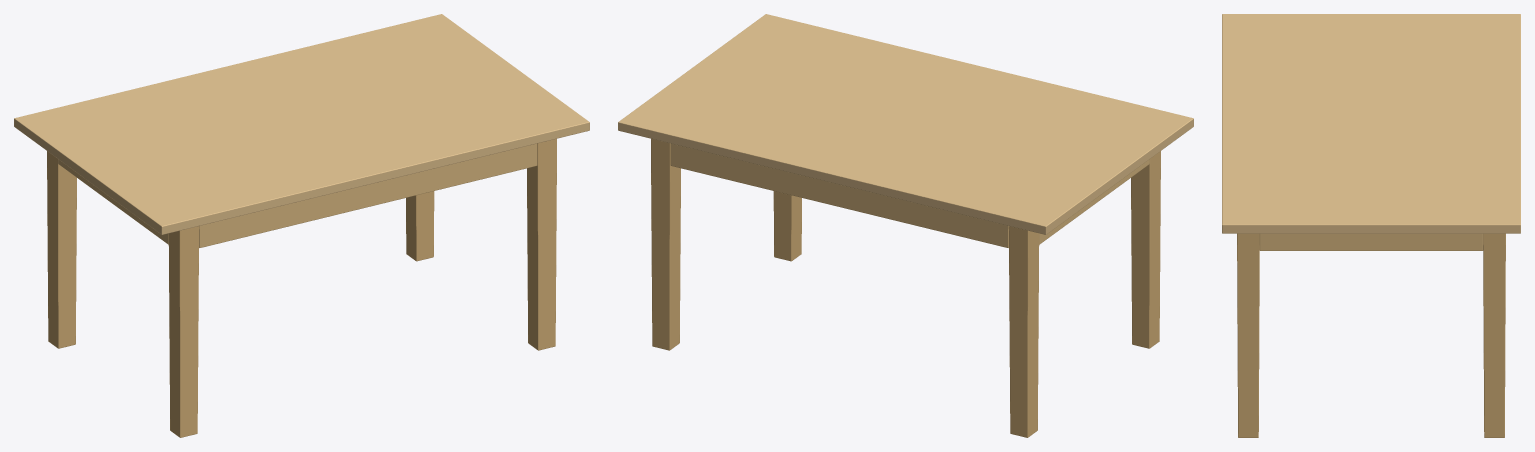
File: Pine_dining_table.glb
3 renders of one model, left to right at view 1: azimuth 30°, elevation 25°; view 2: azimuth 150°, elevation 25°; view 3: azimuth 270°, elevation 25°, orthographic.
Parts seen in each view (by area): view 1: top, apron.long_1, leg_1, leg_2, leg_3, leg_4, apron.short_1; view 2: top, apron.long_2, leg_3, leg_4, leg_1, leg_2, apron.short_1; view 3: top, leg_2, leg_4, apron.short_2.
Part boxes in pixels (x1,y1,x2,y2): top: (14, 14, 589, 234); apron.long_1: (199, 143, 537, 247); leg_1: (168, 226, 199, 437); leg_2: (527, 138, 556, 350); leg_3: (47, 151, 76, 348); leg_4: (406, 191, 434, 261); apron.short_1: (58, 159, 168, 244); top: (618, 14, 1193, 234); apron.long_2: (670, 143, 1008, 247); leg_3: (1008, 226, 1039, 437); leg_4: (651, 138, 680, 350); leg_1: (1131, 151, 1160, 348); leg_2: (773, 191, 801, 261); apron.short_1: (1039, 159, 1149, 244); top: (1222, 14, 1520, 233); leg_2: (1237, 233, 1259, 437); leg_4: (1483, 233, 1505, 437); apron.short_2: (1259, 233, 1483, 250).
Size of the model in its own units: 1.52 by 0.76 by 0.91.
